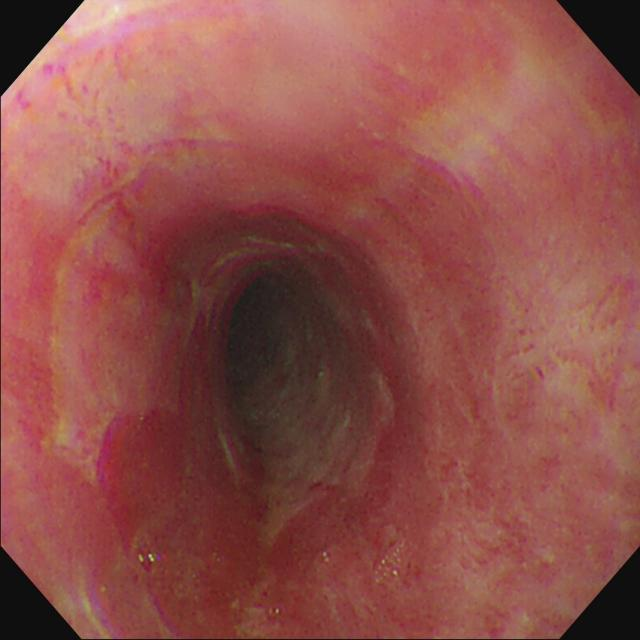A: (263, 479, 561, 640), (346, 204, 498, 481), (79, 413, 261, 640), (51, 64, 149, 205)
